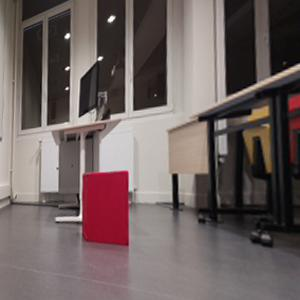medium: (78, 170, 133, 251)
